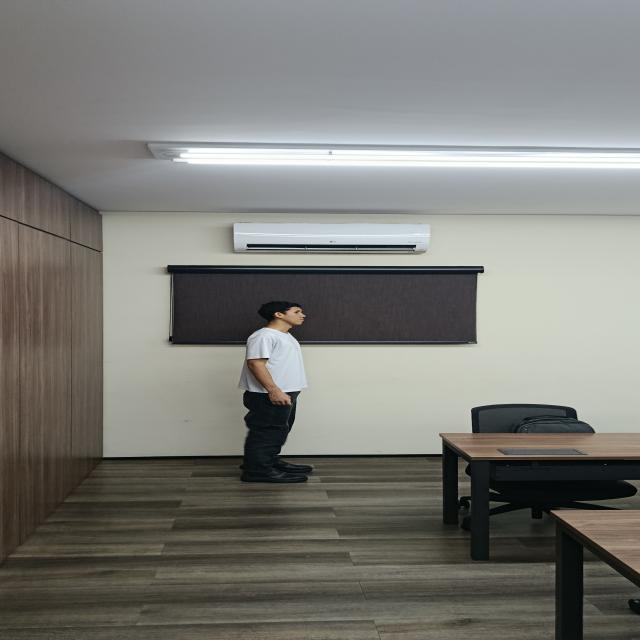sem_oculos: (272, 310, 308, 314)
